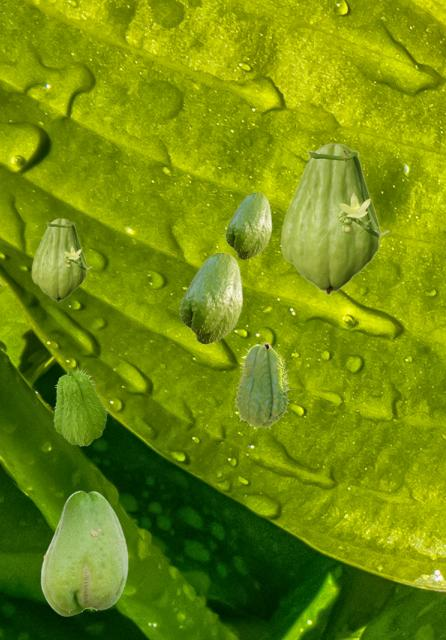sayote: (280, 143, 389, 294), (40, 490, 127, 615), (178, 252, 242, 344), (31, 218, 91, 301), (234, 342, 289, 429), (52, 365, 107, 445), (224, 192, 271, 259)
